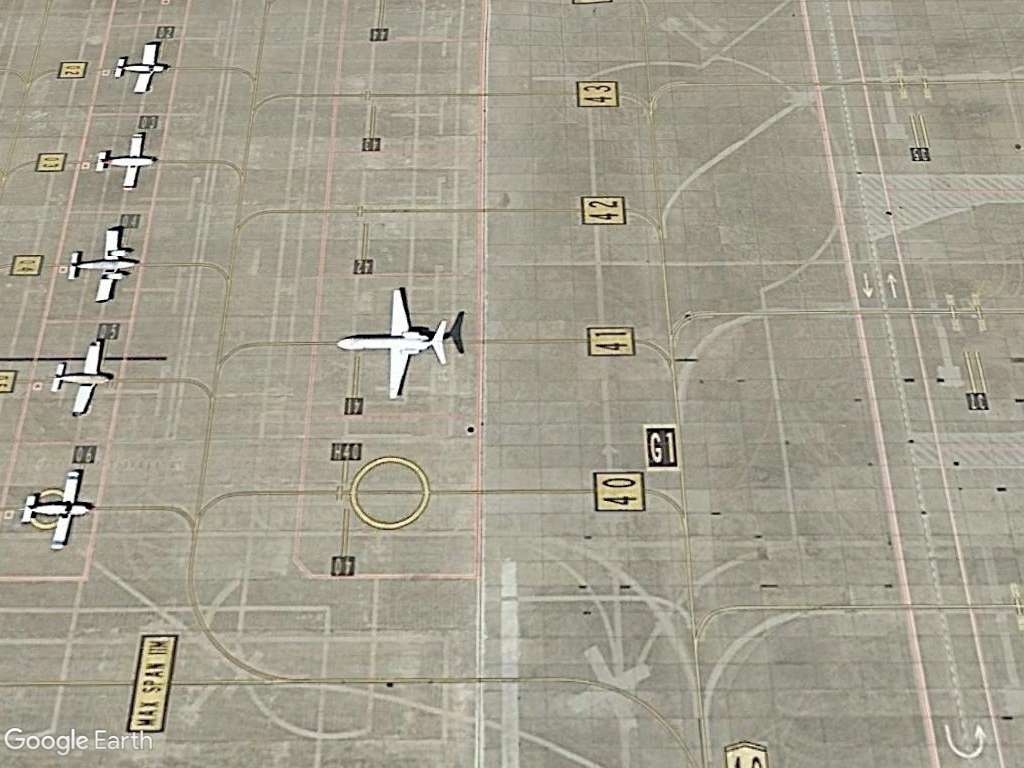chartered: (328, 286, 460, 402)
trainer: (20, 467, 97, 553), (51, 336, 118, 418), (89, 125, 162, 194), (107, 41, 172, 97)
